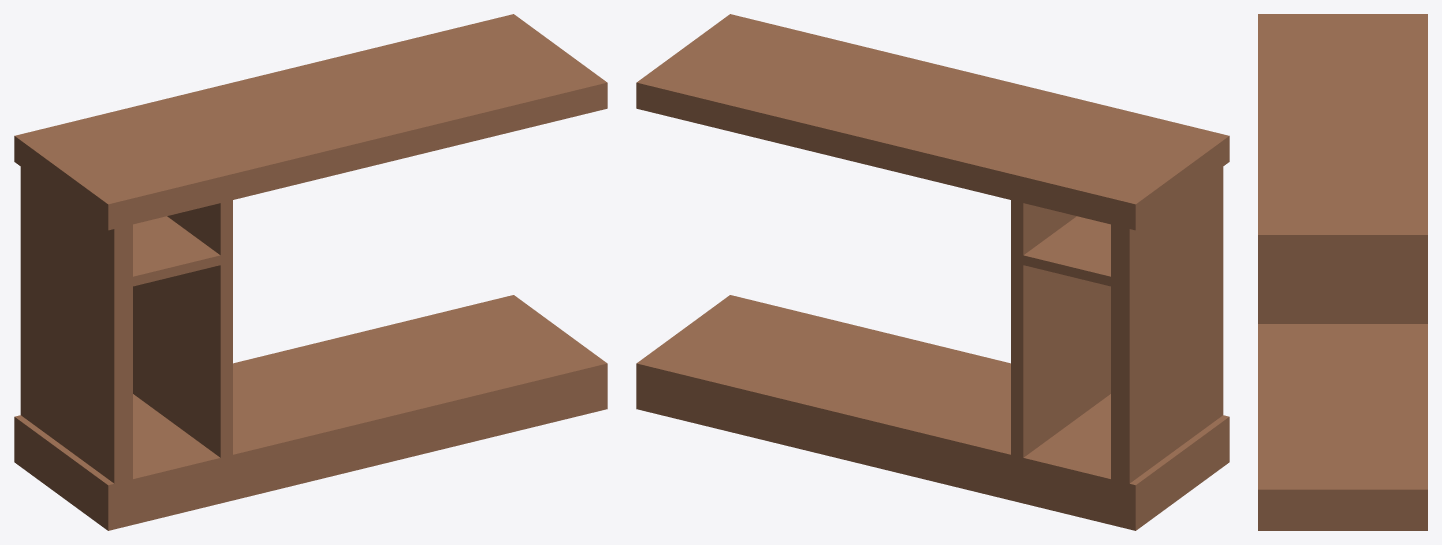
The model's file is 493_サイドテーブル.glb.
3 renders of one model, left to right at view 1: azimuth 30°, elevation 25°; view 2: azimuth 150°, elevation 25°; view 3: azimuth 270°, elevation 25°, orthographic. The views are drawn at different scales.
Visible parts, largest first — view 1: Body; view 2: Body; view 3: Body.
Boxes of the visible parts, <box> form: Body: <box>14,14,607,530</box>; Body: <box>636,14,1229,530</box>; Body: <box>1258,14,1427,530</box>.
Size of the model in its own units: 0.8 by 0.5 by 0.26.
